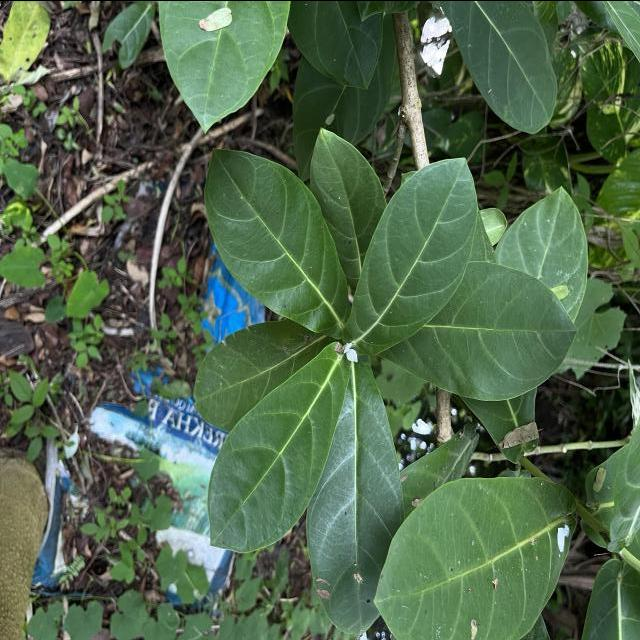Calotropis gigantea: (372, 474, 582, 640), (207, 338, 354, 552), (376, 260, 580, 400), (204, 146, 352, 338), (306, 358, 406, 636), (346, 154, 479, 356), (438, 0, 558, 135)
